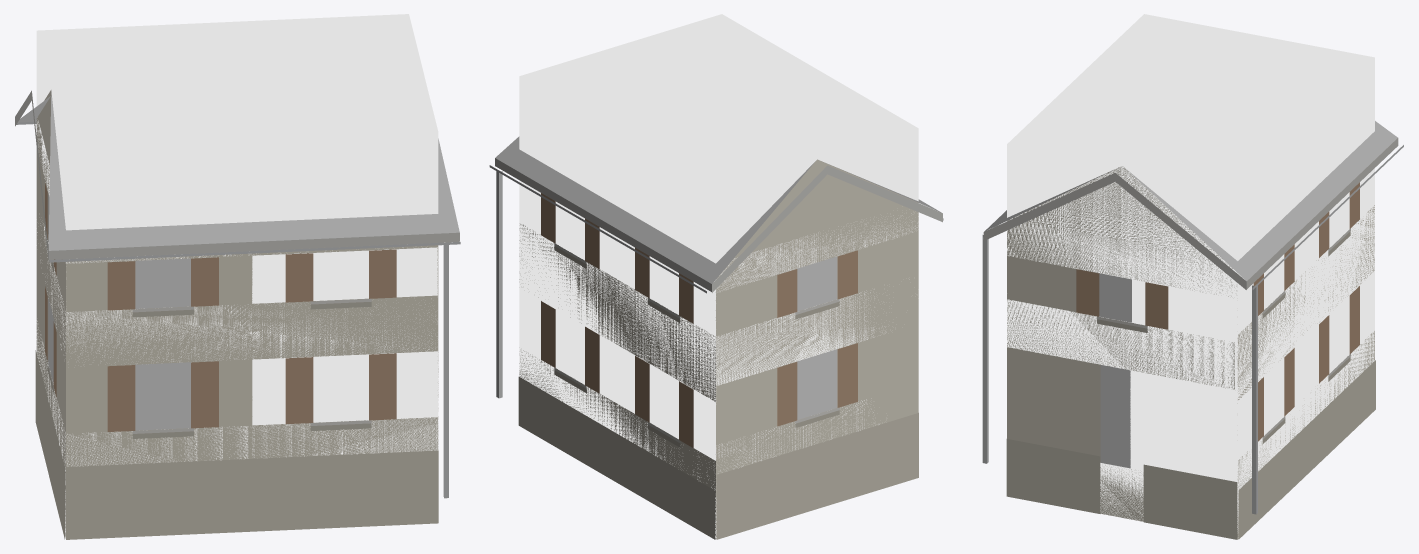
3 views of the same model, side by side, from view 1: azimuth 30°, elevation 25°; view 2: azimuth 150°, elevation 25°; view 3: azimuth 270°, elevation 25° (orthographic). The views are drawn at different scales.
Visible parts, largest first — view 1: bld, col; view 2: bld, col; view 3: col, bld.
Boxes of the visible parts, bbox=[...] form: bld: bbox=[15, 90, 460, 539]; col: bbox=[36, 14, 438, 537]; bld: bbox=[489, 136, 943, 539]; col: bbox=[519, 14, 918, 539]; col: bbox=[1007, 14, 1374, 537]; bld: bbox=[982, 121, 1403, 539].
Bounding box in the file's own units: 9.2 × 7.72 × 8.49.
